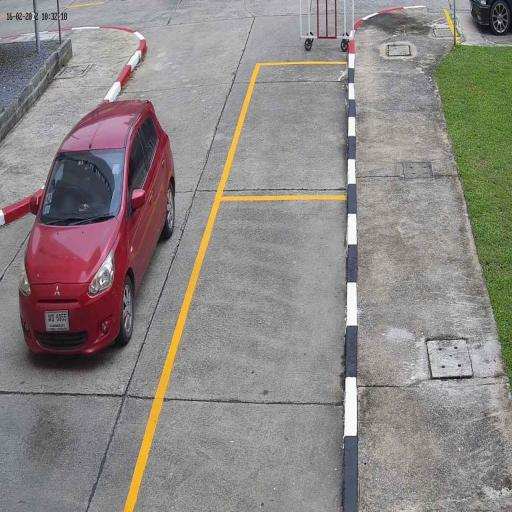car: (17, 97, 177, 362)
